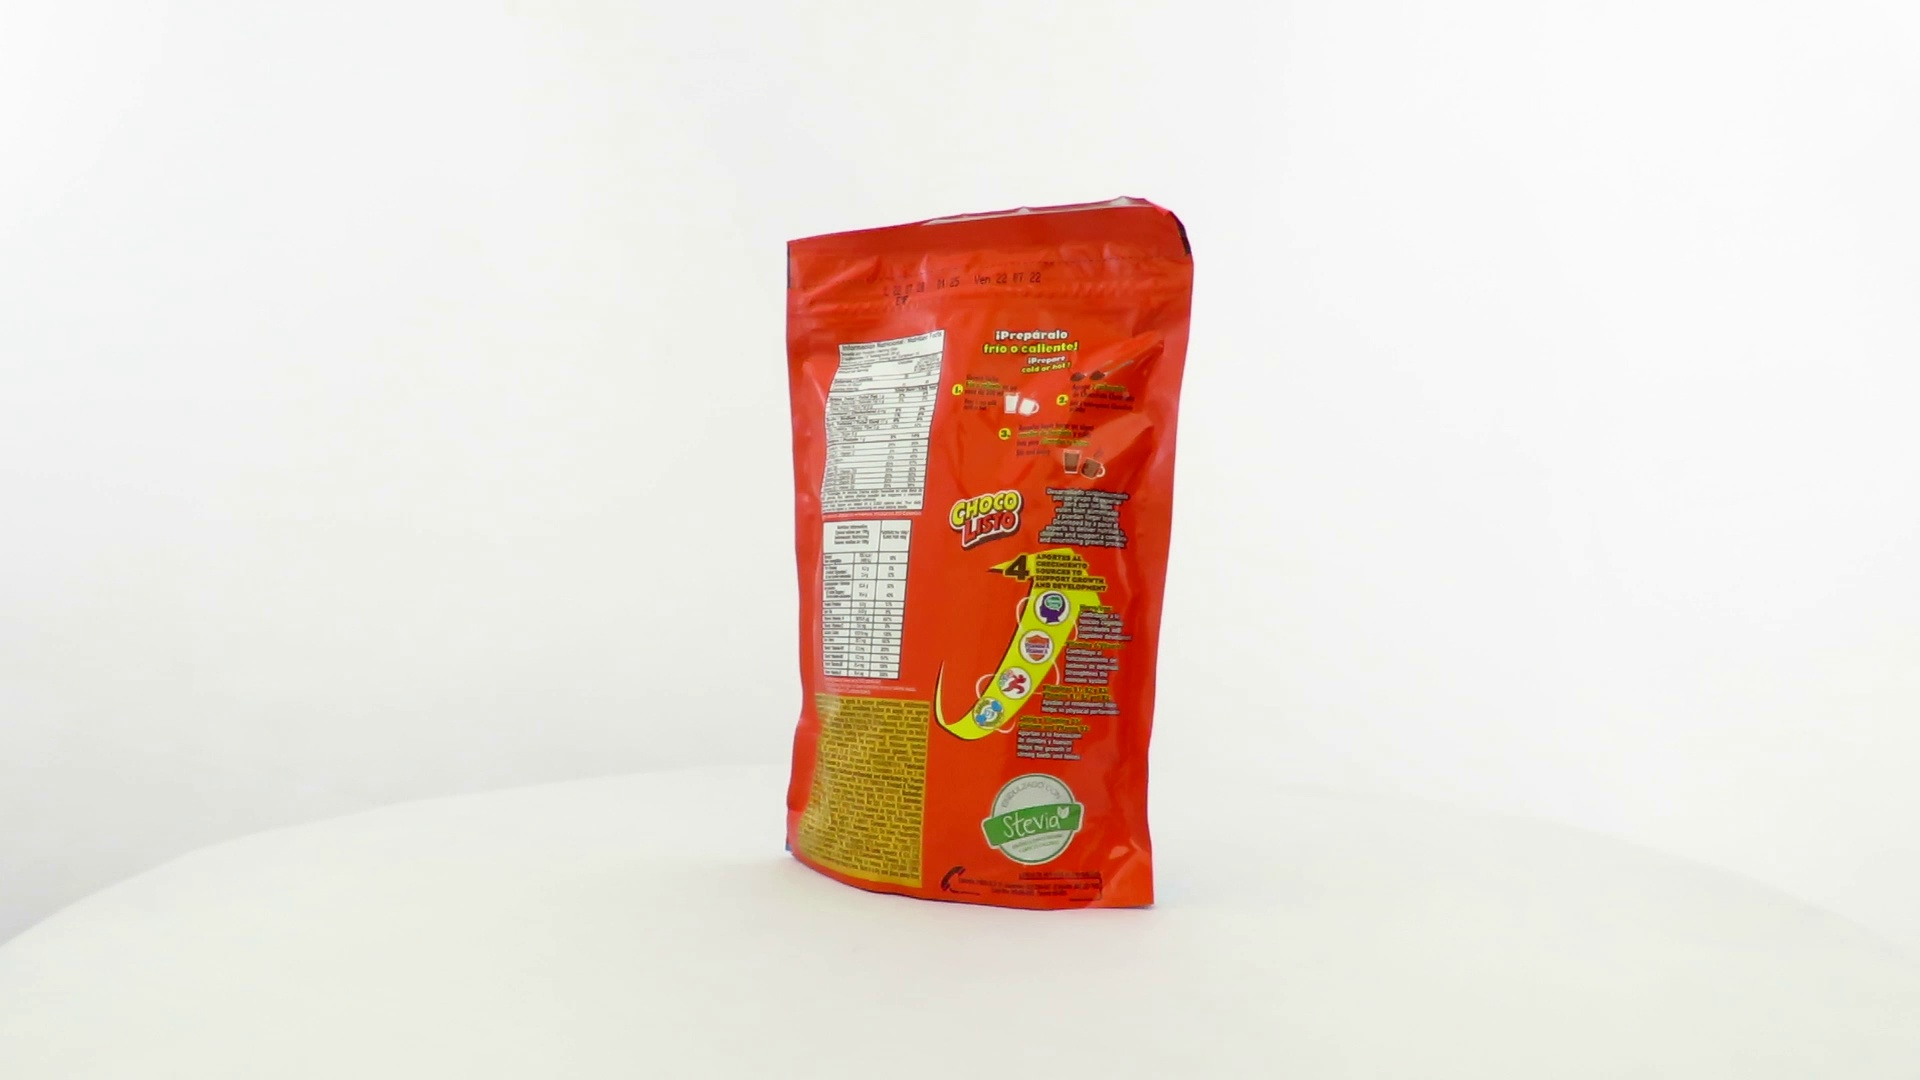COL0170104DYP20000: (774, 190, 1200, 916)
